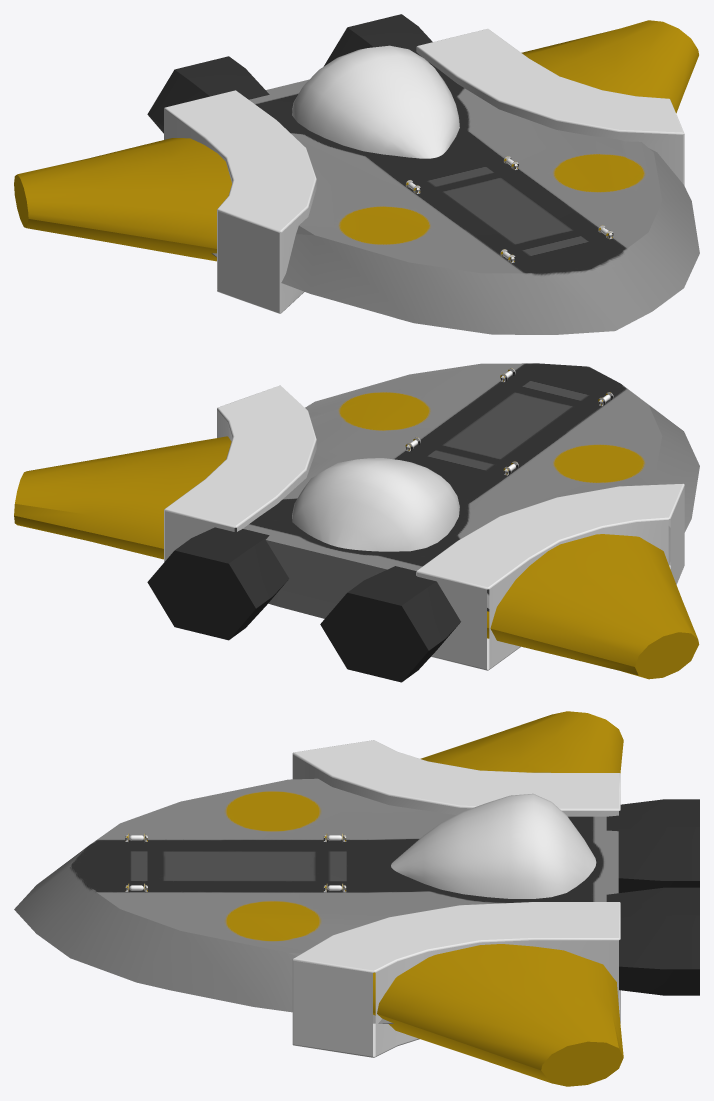
The model's file is platform_spaceship4.fbx.
3 renders of one model, top to bottom at view 1: azimuth 30°, elevation 25°; view 2: azimuth 150°, elevation 25°; view 3: azimuth 270°, elevation 25°, orthographic. The views are drawn at different scales.
Visible parts, largest first — view 1: spaceship, glass_5; view 2: spaceship, glass_5; view 3: spaceship, glass_5.
Part boxes in pixels (x1,y1,x2,y2): spaceship: (14,14,699,334); glass_5: (292,45,459,158); spaceship: (14,363,699,682); glass_5: (292,458,459,551); spaceship: (14,711,699,1086); glass_5: (391,793,596,898).
Bounding box in the file's own units: 703 × 168 × 594.
